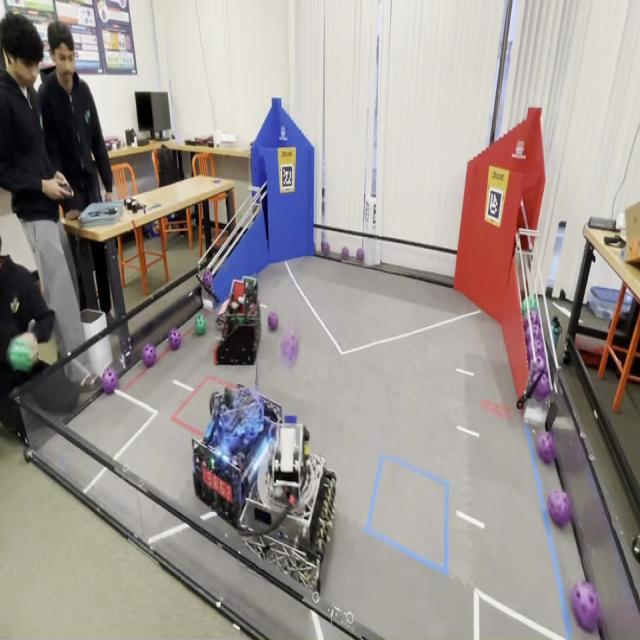artifact_green: (8, 335, 37, 372), (281, 328, 298, 363), (522, 296, 538, 317), (194, 314, 206, 335), (632, 537, 639, 562), (238, 315, 246, 325)
artifact_purple: (571, 581, 601, 631), (584, 497, 610, 543), (548, 491, 571, 528), (562, 446, 587, 475), (281, 329, 298, 363), (537, 432, 555, 464), (534, 373, 551, 401), (101, 367, 118, 395), (142, 343, 156, 367), (168, 328, 182, 351), (525, 324, 541, 342), (524, 311, 539, 330), (532, 352, 546, 372), (531, 341, 545, 357), (203, 270, 212, 292), (268, 312, 278, 331), (321, 241, 330, 257), (526, 343, 533, 363), (356, 248, 364, 261), (341, 247, 349, 259)
